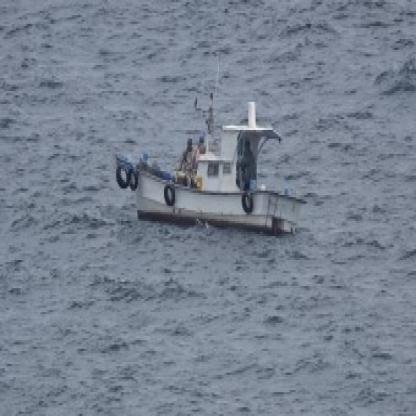Ship: (112, 88, 312, 253)
